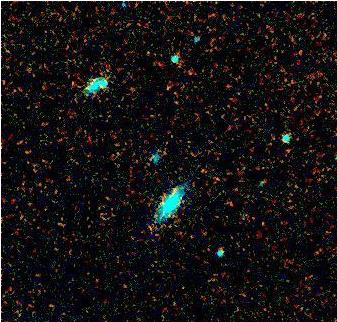star: (158, 176, 188, 206)
